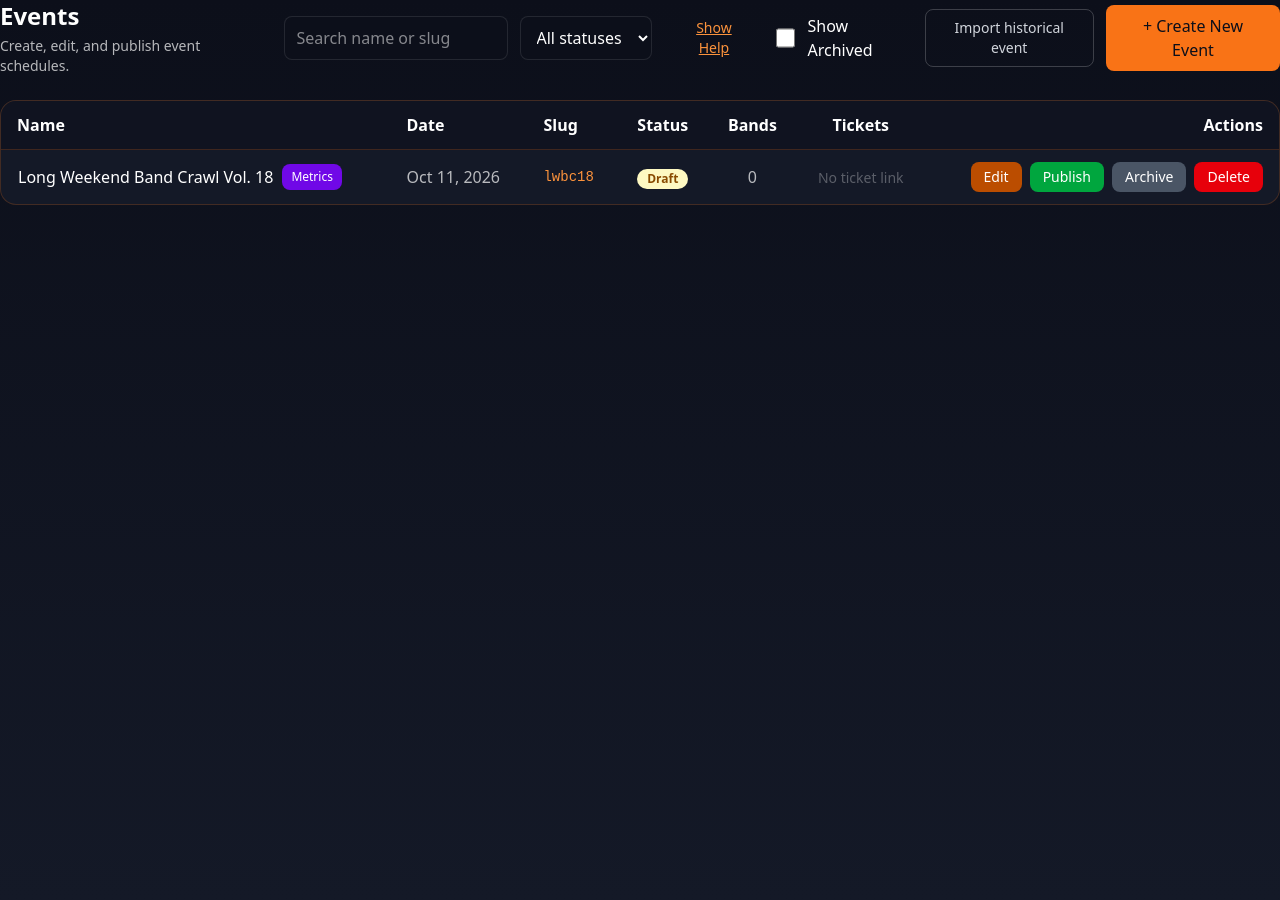
Test case: EventsTab + EventFormModal — partial save when publishing fails (#825) › keeps the modal open and does not toast success when the publish confirm is declined
Click the button "Edit": (996, 177) top-left (971, 162), bottom-right (1022, 192)
(page scrolled)
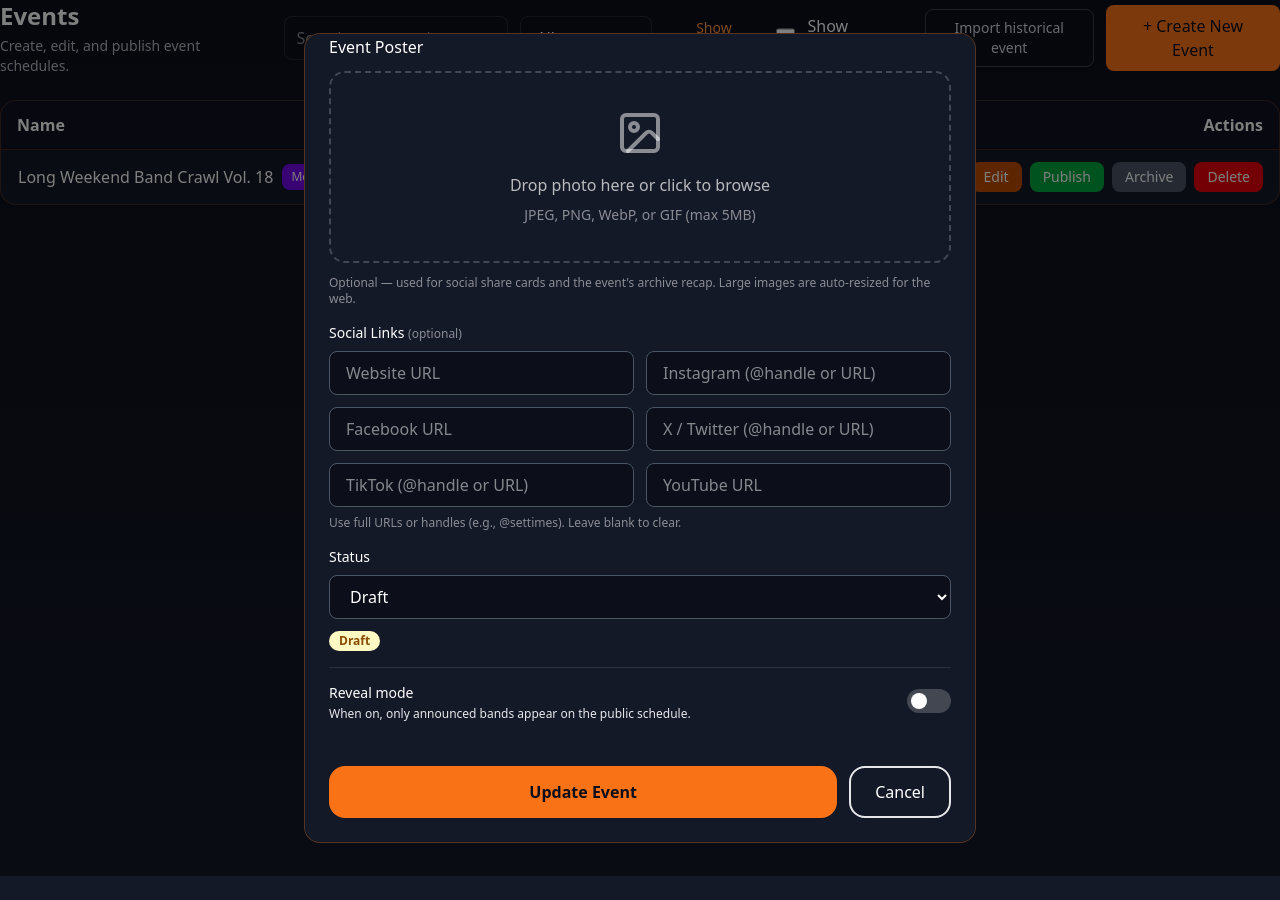
Select "Published" in the dropdown labelled "Status": (640, 597) top-left (329, 575), bottom-right (951, 619)
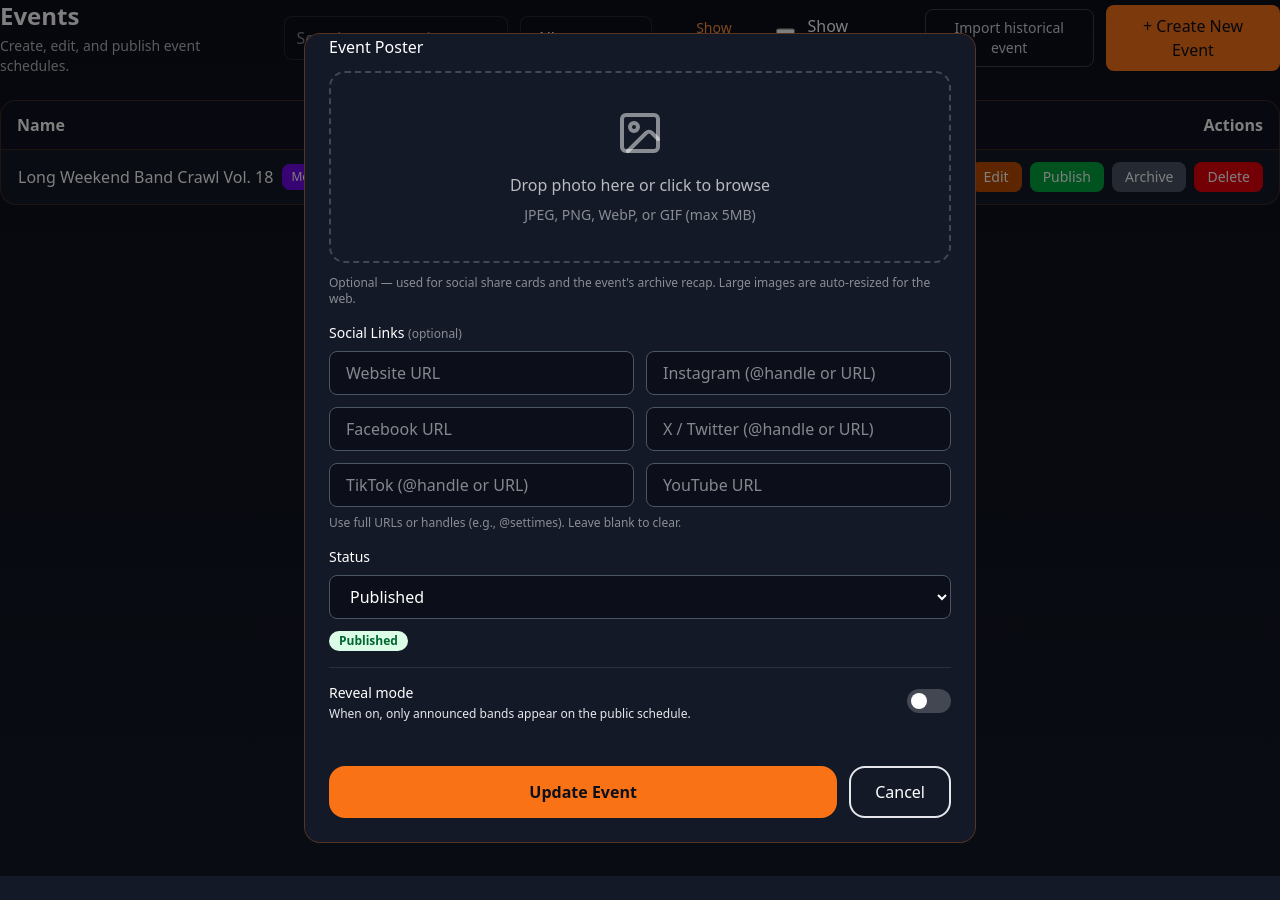
Click the button "Update Event": (583, 792) top-left (329, 766), bottom-right (837, 818)
(page scrolled)
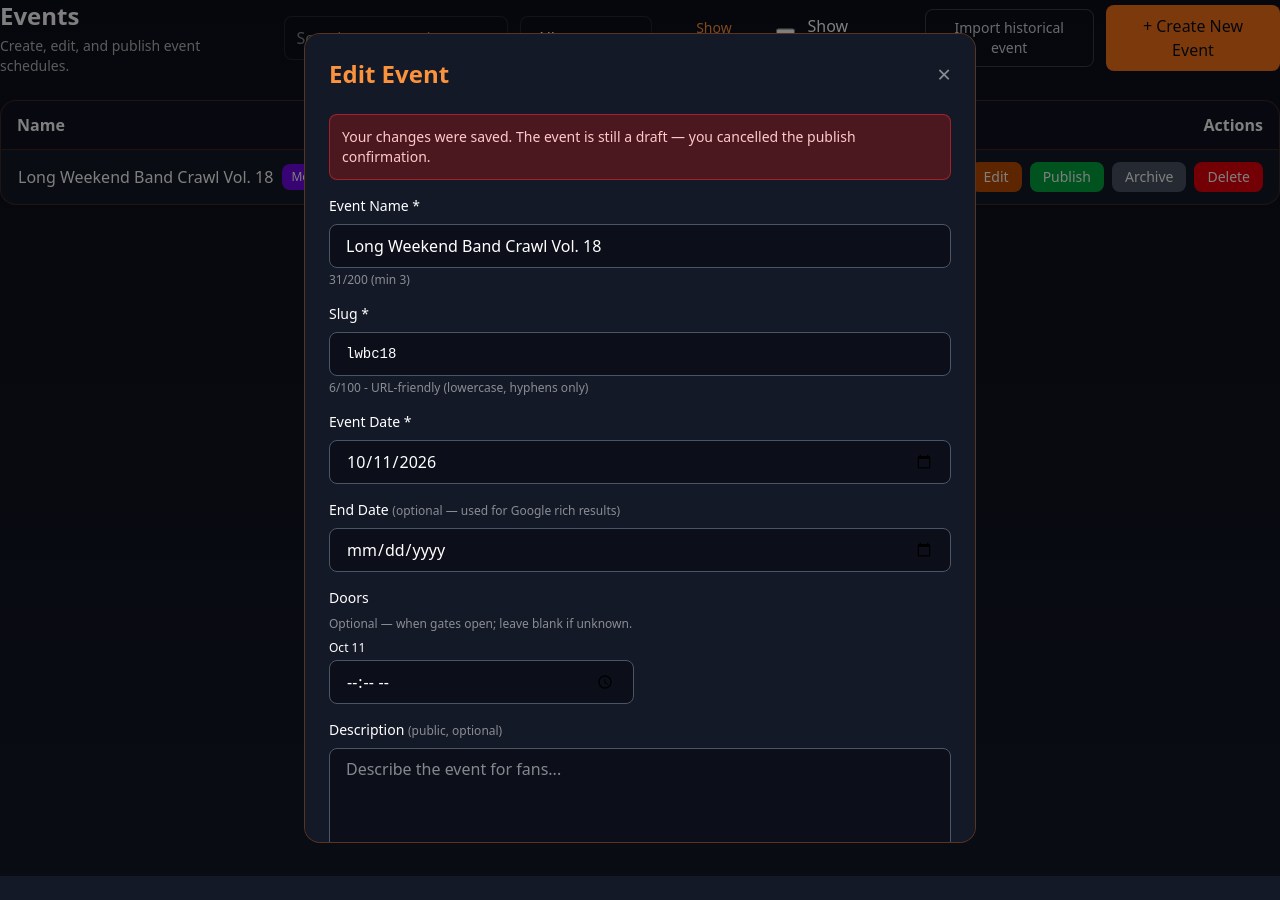
Result: the text "still a draft" is shown at top-left (342, 127), bottom-right (856, 166)
